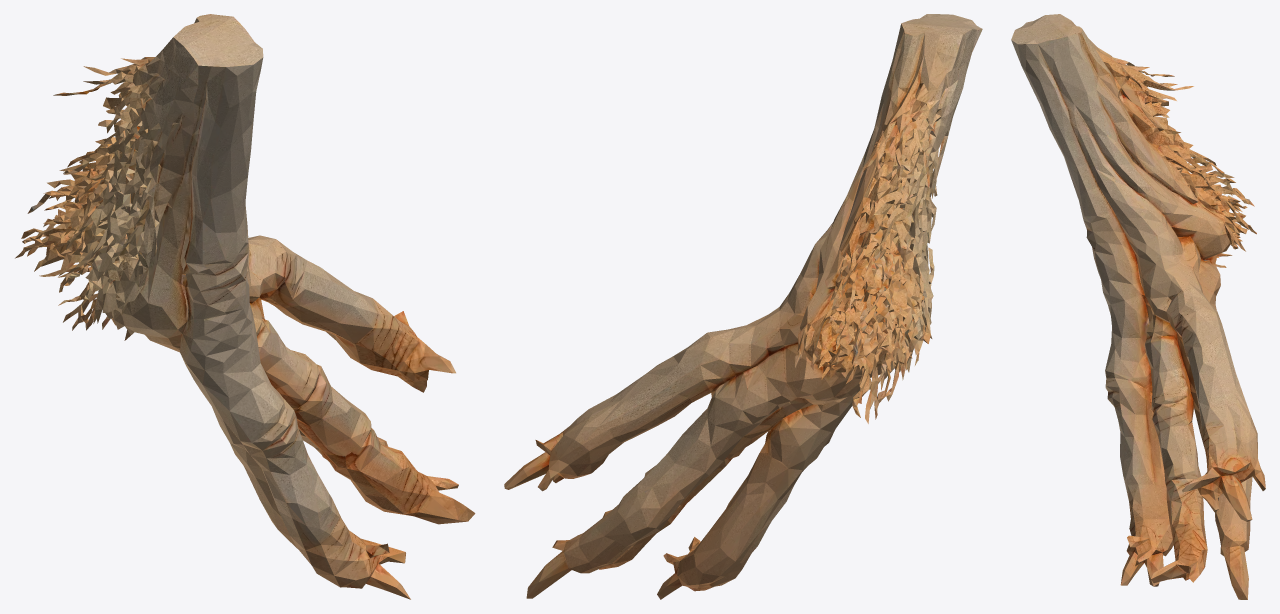
The model's file is foot (42).glb.
The picture shows the model from 3 angles, left to right: view 1: azimuth 30°, elevation 25°; view 2: azimuth 150°, elevation 25°; view 3: azimuth 270°, elevation 25°; orthographic projection. The views are drawn at different scales.
Parts seen in each view (by area): view 1: Hy21_Mesh.obj; view 2: Hy21_Mesh.obj; view 3: Hy21_Mesh.obj.
Boxes of the visible parts, <box> form: Hy21_Mesh.obj: <box>15,14,475,599</box>; Hy21_Mesh.obj: <box>504,14,982,599</box>; Hy21_Mesh.obj: <box>1011,14,1265,599</box>.
Size of the model in its own units: 1.34 by 1.96 by 0.9506.
1 material, 1 textured.
